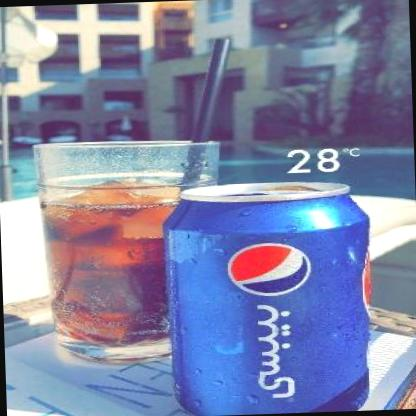alumunium_can: (161, 178, 379, 416)
